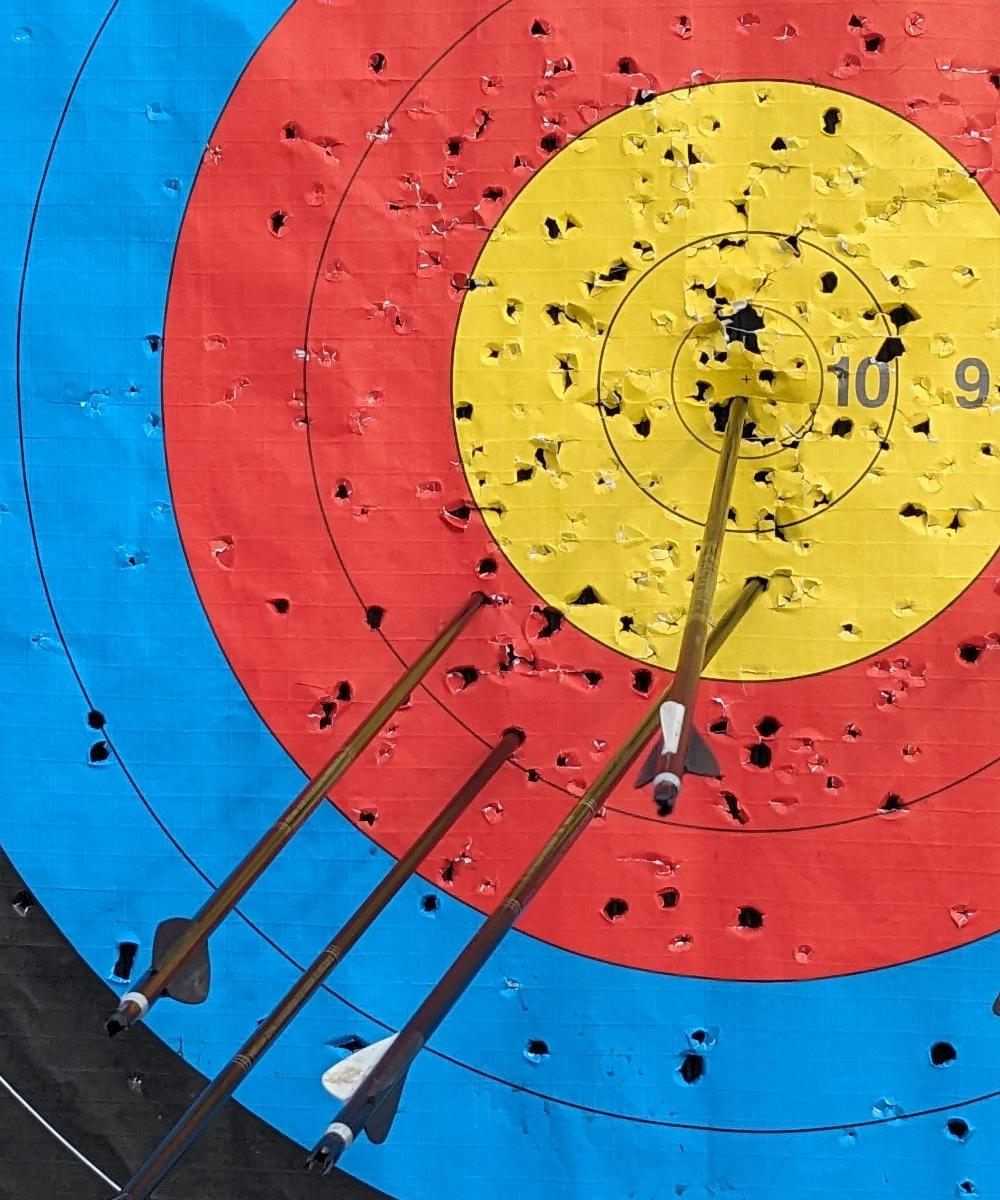10-Ring: (545, 180, 950, 585)
8-Ring: (307, 0, 1000, 830)
9-Ring: (457, 83, 1000, 682)
Arrow: (273, 536, 764, 1198), (89, 553, 485, 1072), (113, 729, 524, 1200), (633, 394, 746, 821)
